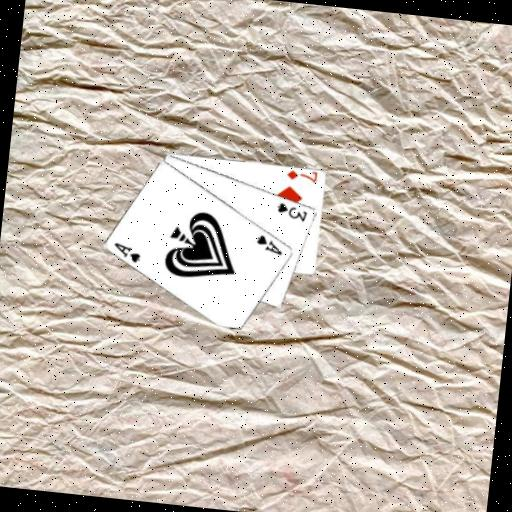3S: (274, 199, 311, 223)
7D: (283, 167, 319, 185)
AS: (110, 239, 144, 265), (253, 231, 286, 257)
